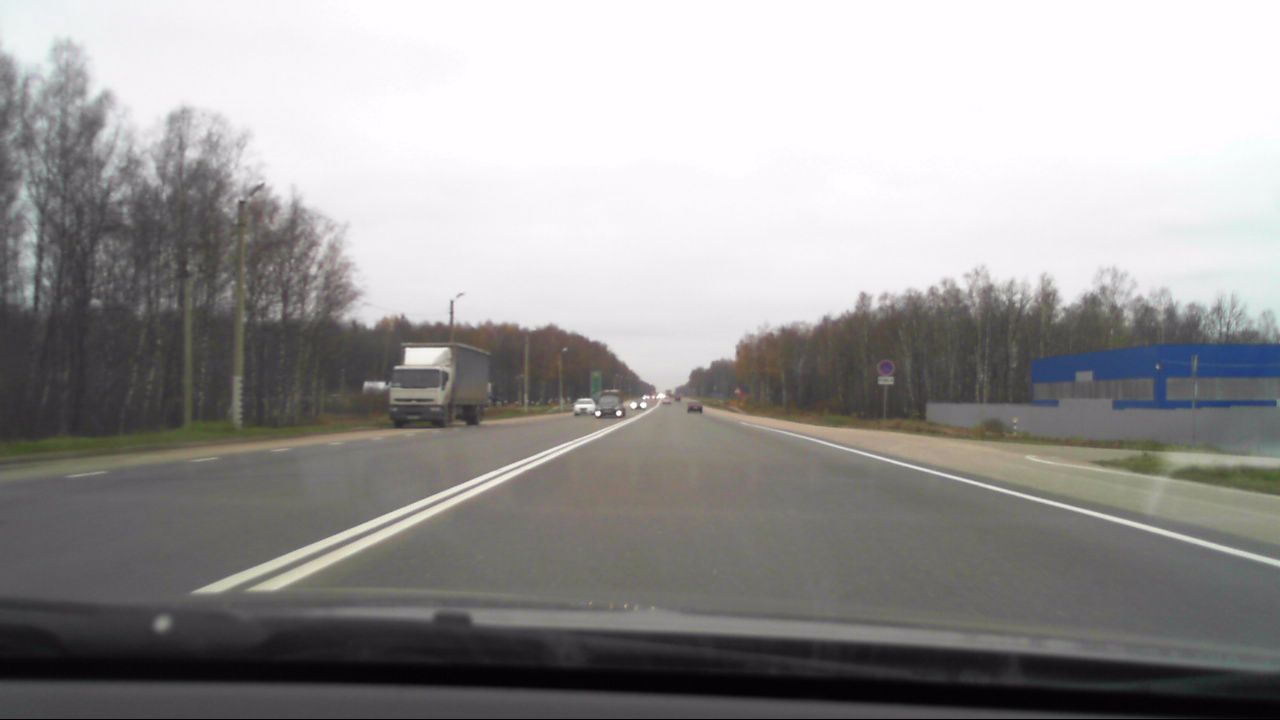No Parking: (876, 357, 897, 374)
